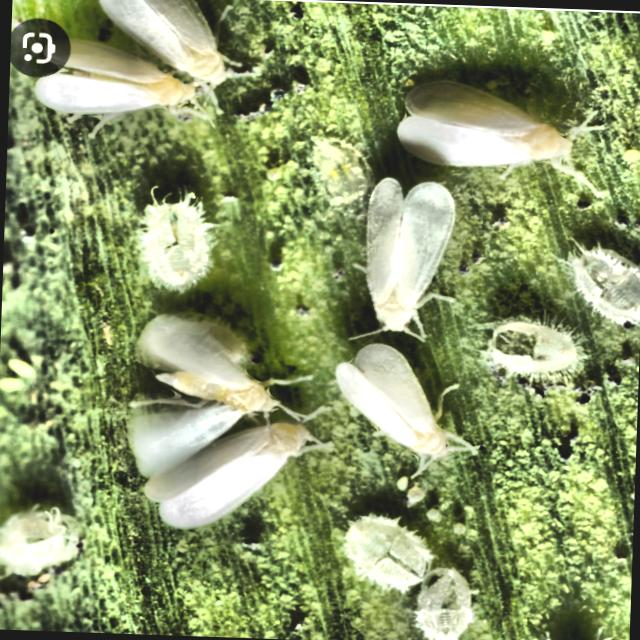nymph: (139, 194, 212, 291), (345, 514, 432, 590), (563, 244, 640, 324), (482, 317, 578, 374), (0, 507, 77, 575), (416, 568, 473, 640)
whitefly: (144, 420, 310, 527), (396, 80, 569, 166), (363, 177, 454, 331), (34, 39, 193, 121), (335, 343, 448, 458), (99, 0, 225, 85), (155, 371, 279, 413)
